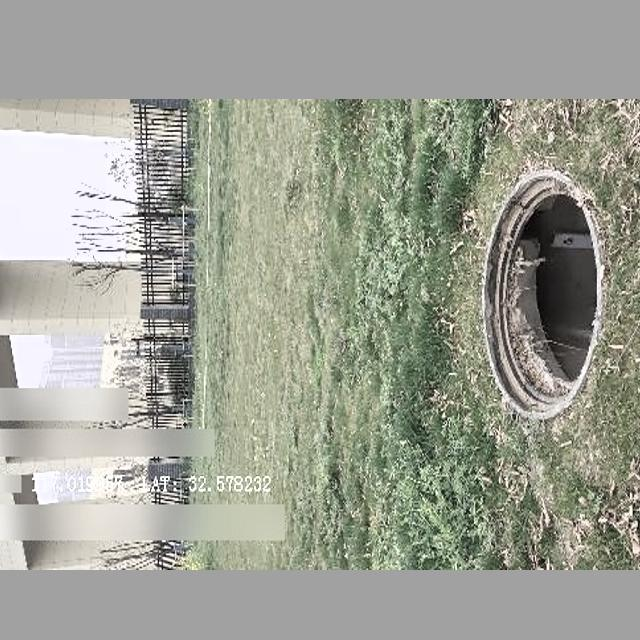lose: (480, 171, 602, 422)
